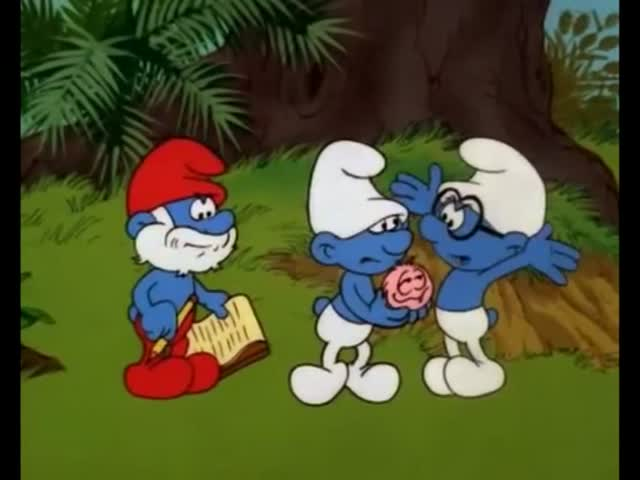smurf: (420, 138, 583, 399), (287, 136, 417, 410), (119, 134, 239, 400)
